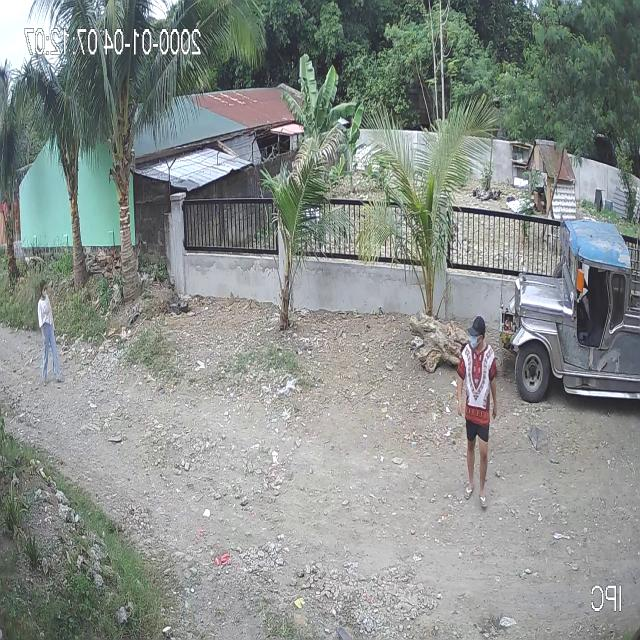walking: (455, 312, 500, 513), (34, 276, 66, 389)
